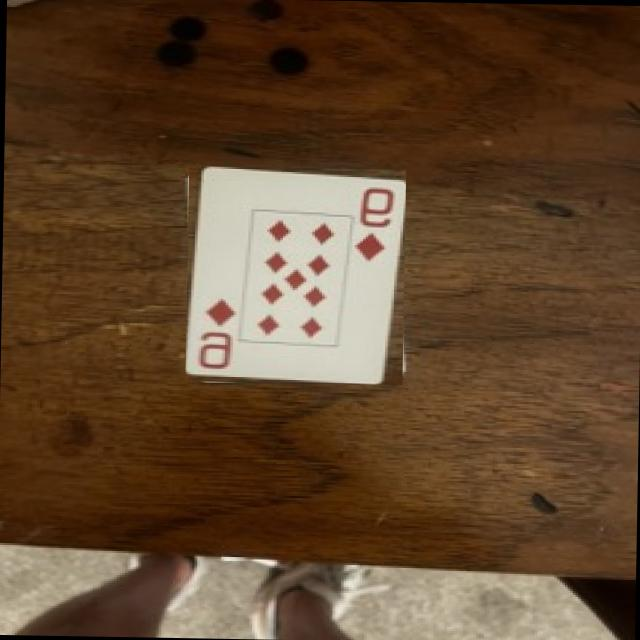9 of diamonds: (184, 167, 404, 384)
